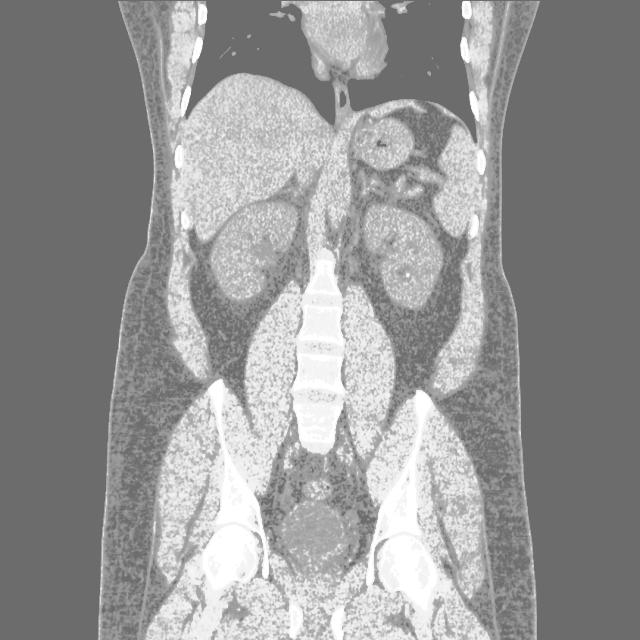STONE: (212, 86, 640, 472)
